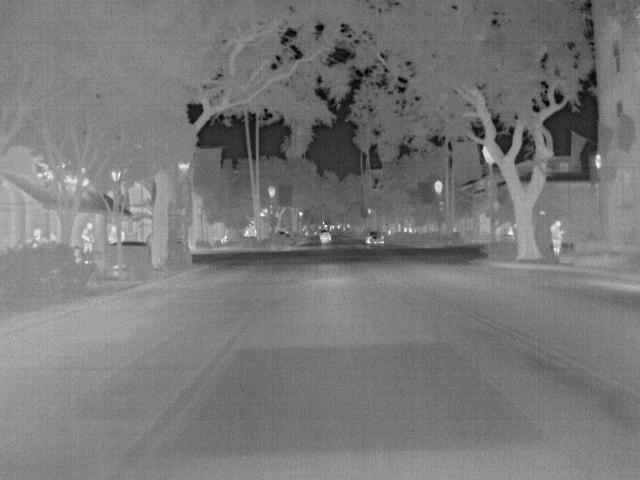car: (363, 228, 387, 244), (317, 230, 335, 244)
person: (80, 219, 98, 255), (548, 219, 564, 255), (103, 224, 120, 245)
